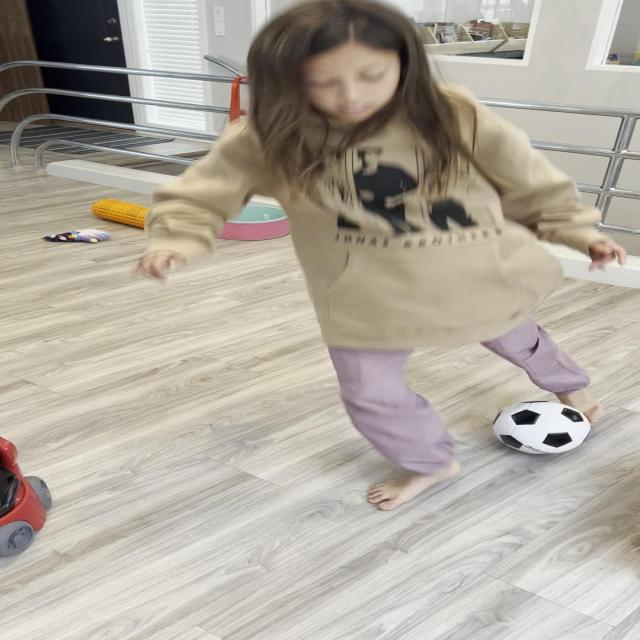Soccer Ball: (493, 400, 590, 454)
